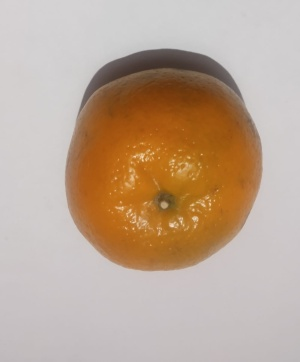BAD: (56, 62, 269, 275)
